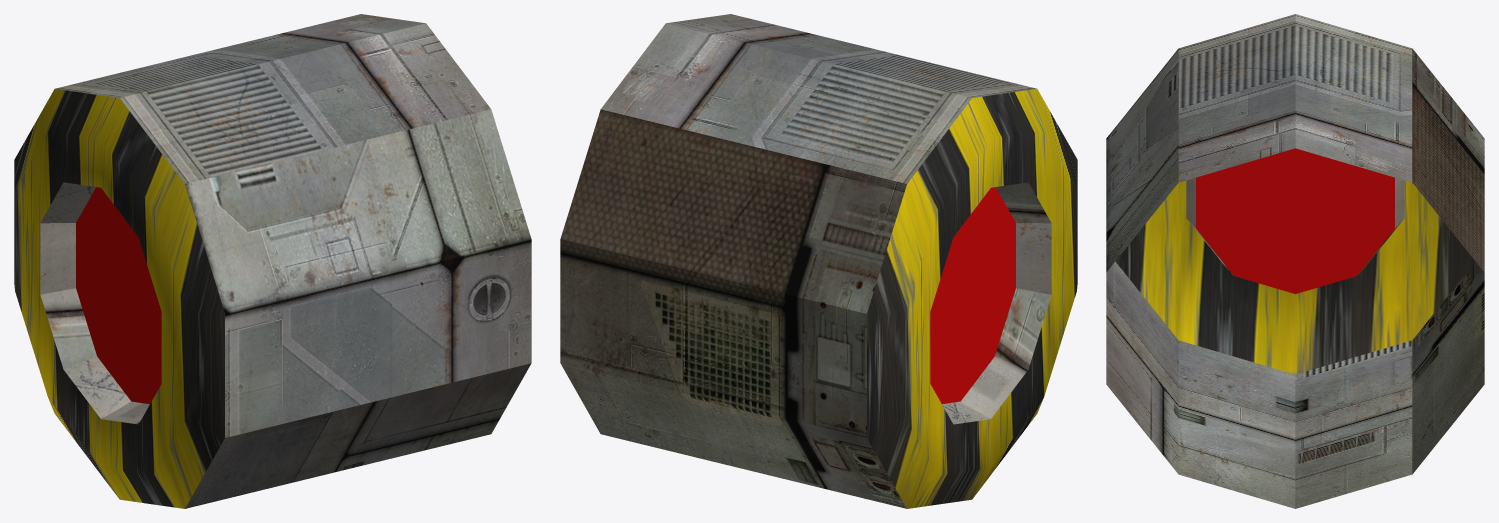
Rendered from SwitcherModel.fbx.
3 renders of one model, left to right at view 1: azimuth 30°, elevation 25°; view 2: azimuth 150°, elevation 25°; view 3: azimuth 270°, elevation 25°, orthographic. The views are drawn at different scales.
Parts seen in each view (by area): view 1: pCylinder1; view 2: pCylinder1; view 3: pCylinder1.
Part boxes in pixels (left/top/right/bottom): pCylinder1: left=14, top=14, right=531, bottom=508; pCylinder1: left=560, top=14, right=1077, bottom=508; pCylinder1: left=1106, top=14, right=1484, bottom=508.
Bounding box in the file's own units: 2.12 × 2.5 × 2.38.
